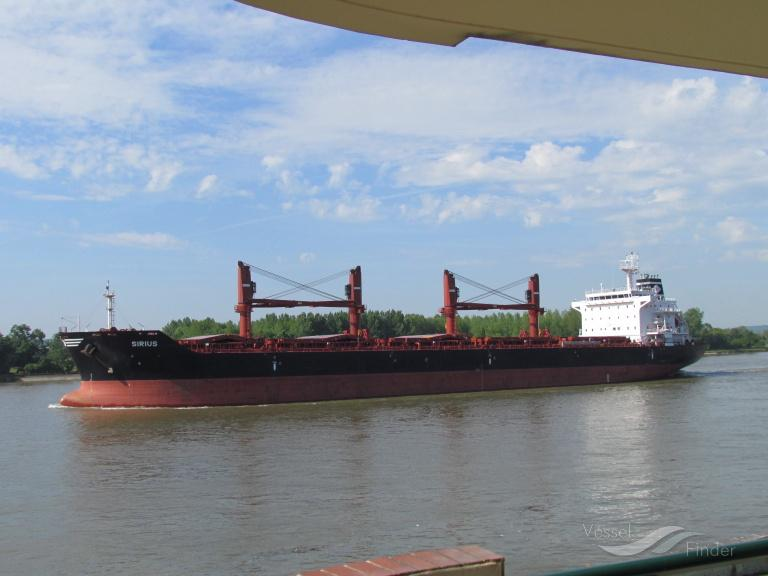OCR: (125, 335, 164, 352)
